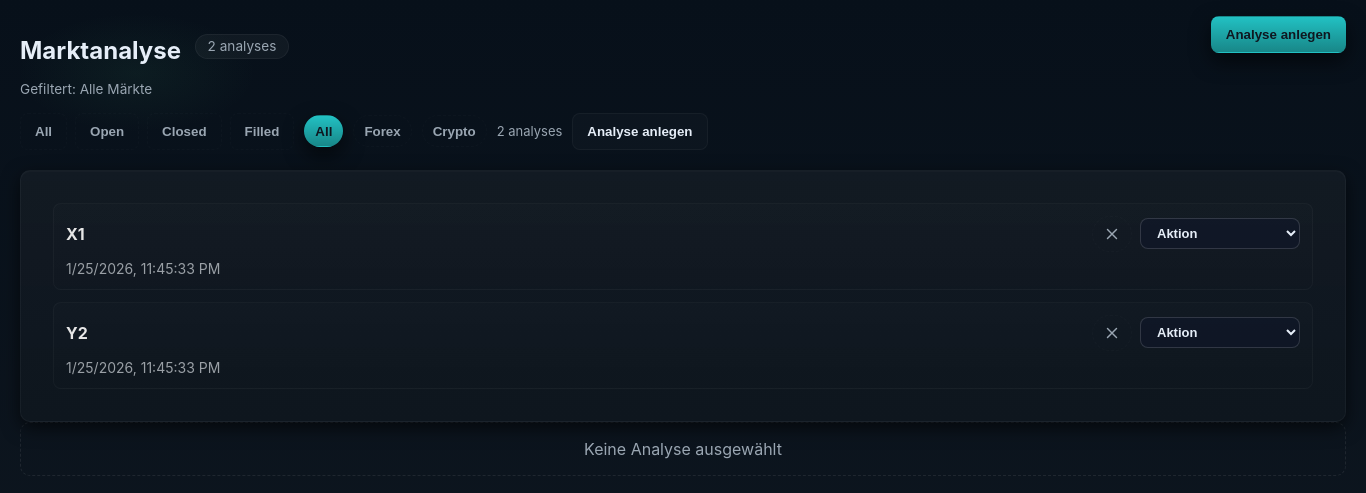
Scenario: Analysis component › responds to analyses-updated event by reloading list and market filter works
Click the button "Crypto" at (454, 131), box [422, 115, 487, 147]
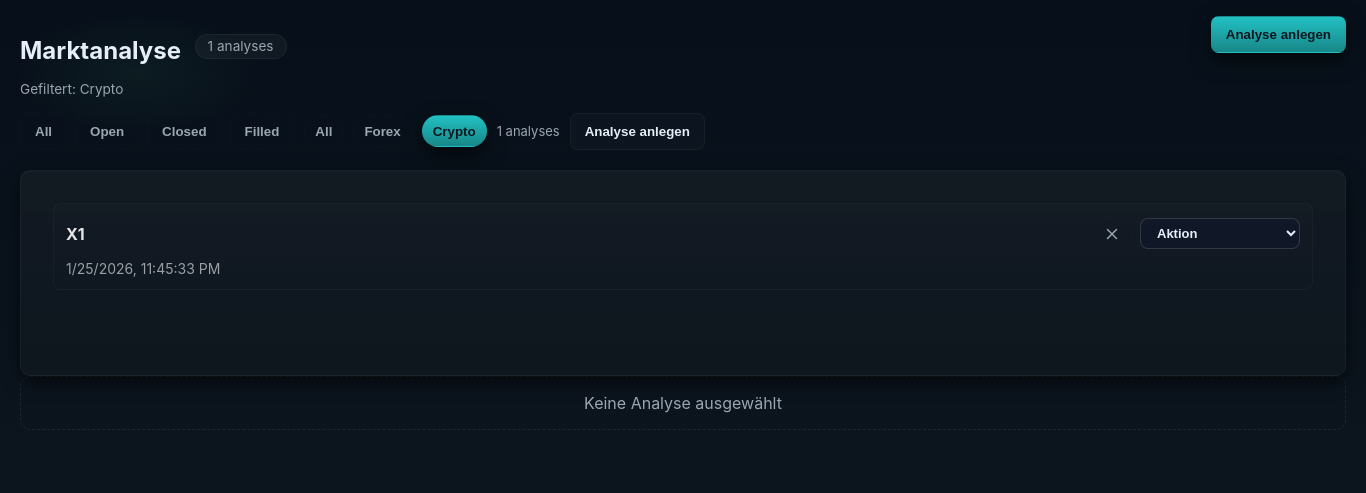
Expected: the button "X1" is shown, [66, 224, 85, 244]
Now the button "Y2" is gone
